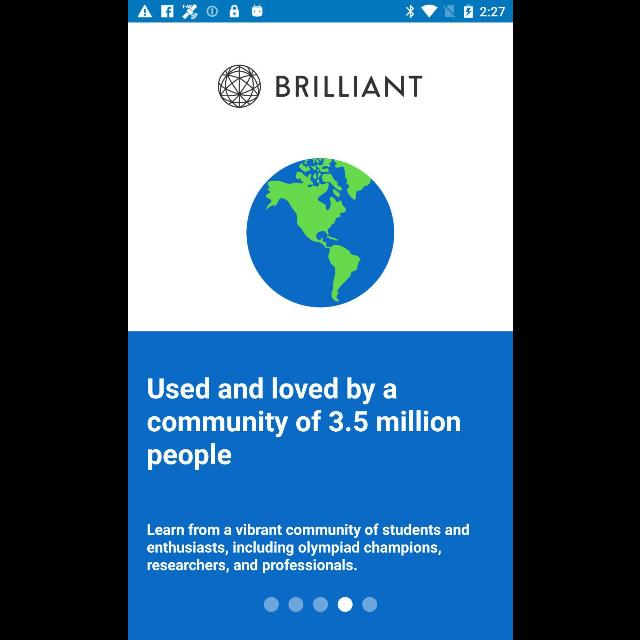image: (244, 158, 394, 308), (217, 65, 261, 108)
pageindicator: (263, 597, 377, 613)
text: (146, 377, 460, 471), (147, 523, 470, 573), (276, 76, 422, 98)
uppertaskbar: (128, 1, 512, 23)
